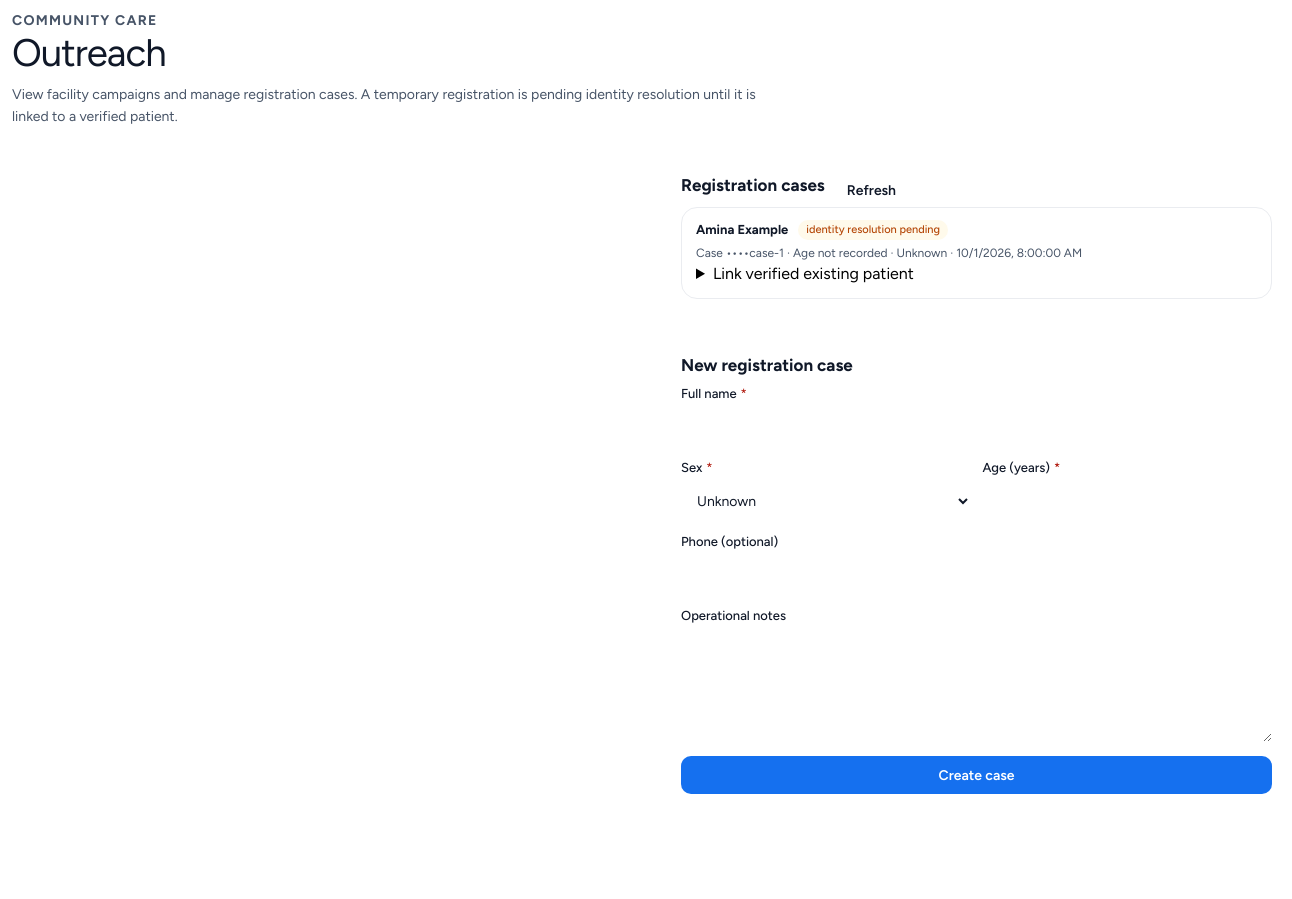
Test: outreach › linking a case: focus moves to the case once its form goes, and the case says it
Click the heading "Link verified existing patient". click: (813, 273)
box: [713,264,914,283]
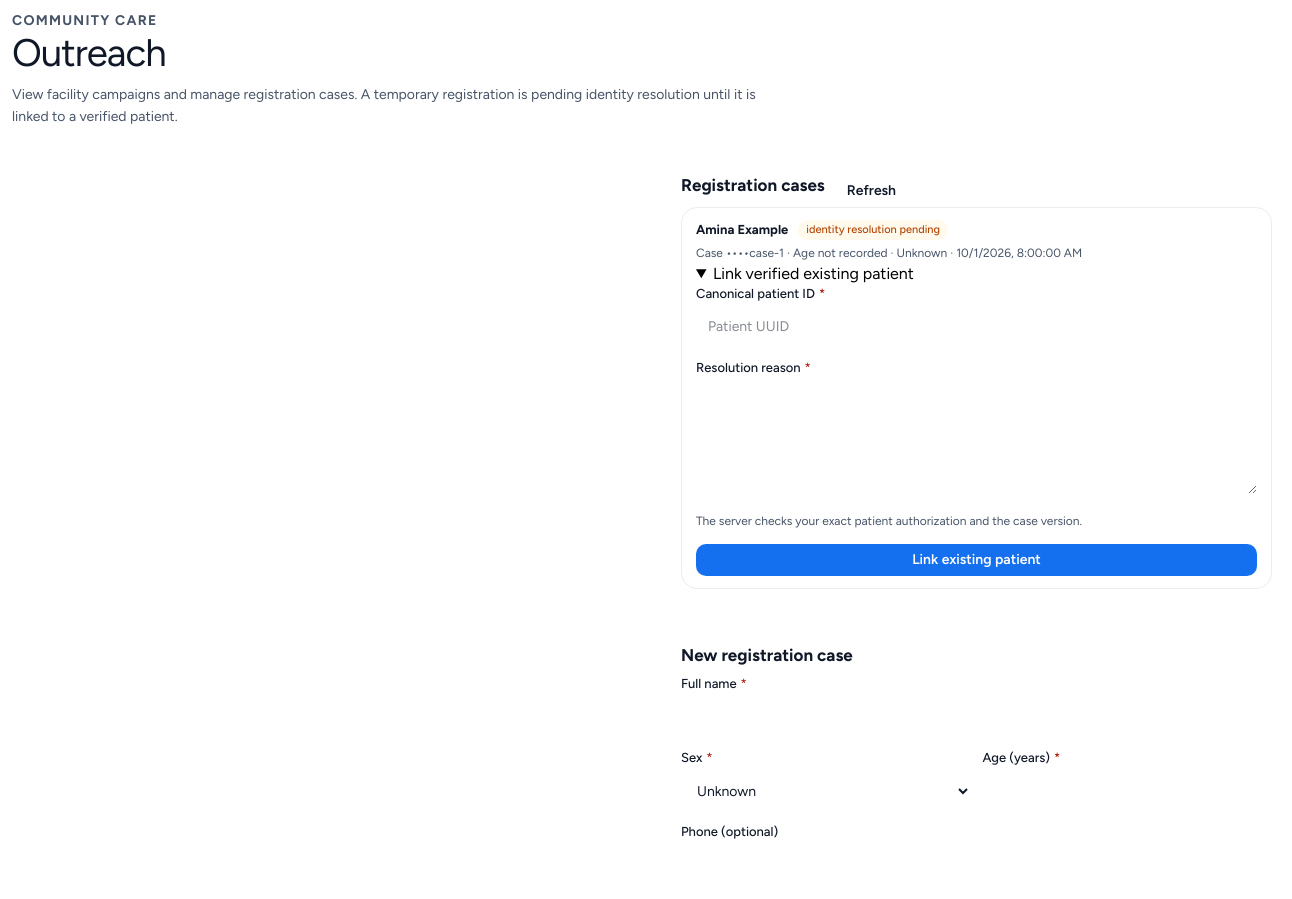
Type "a0000000-0000-4000-8000-000000000001" into the field labelled "Canonical patient ID*". click: (976, 327)
box: [696,308,1257,346]
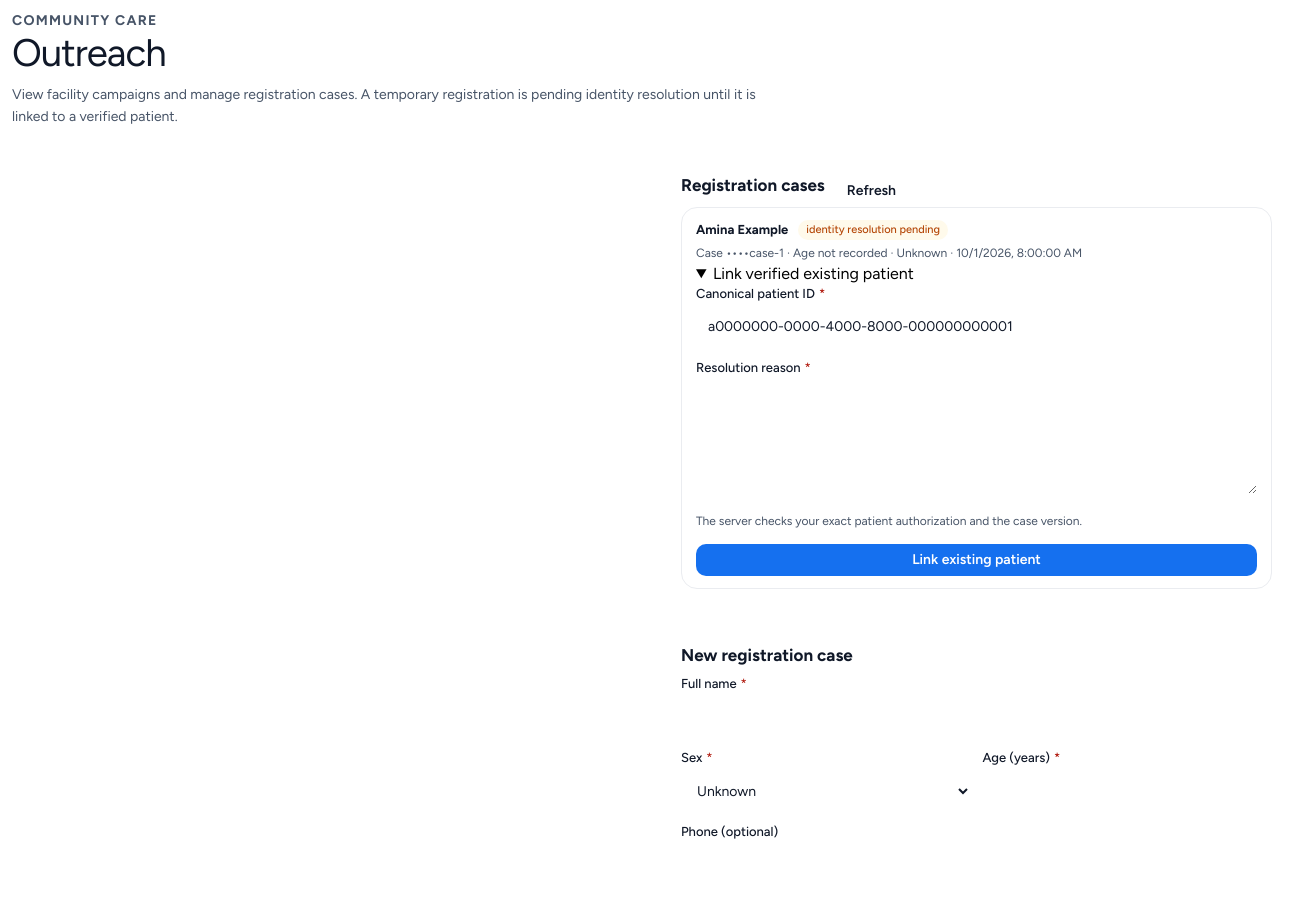
Type "Matched by phone and date of birth" into the text box labelled "Resolution reason*". click: (976, 438)
box: [696,382,1257,494]
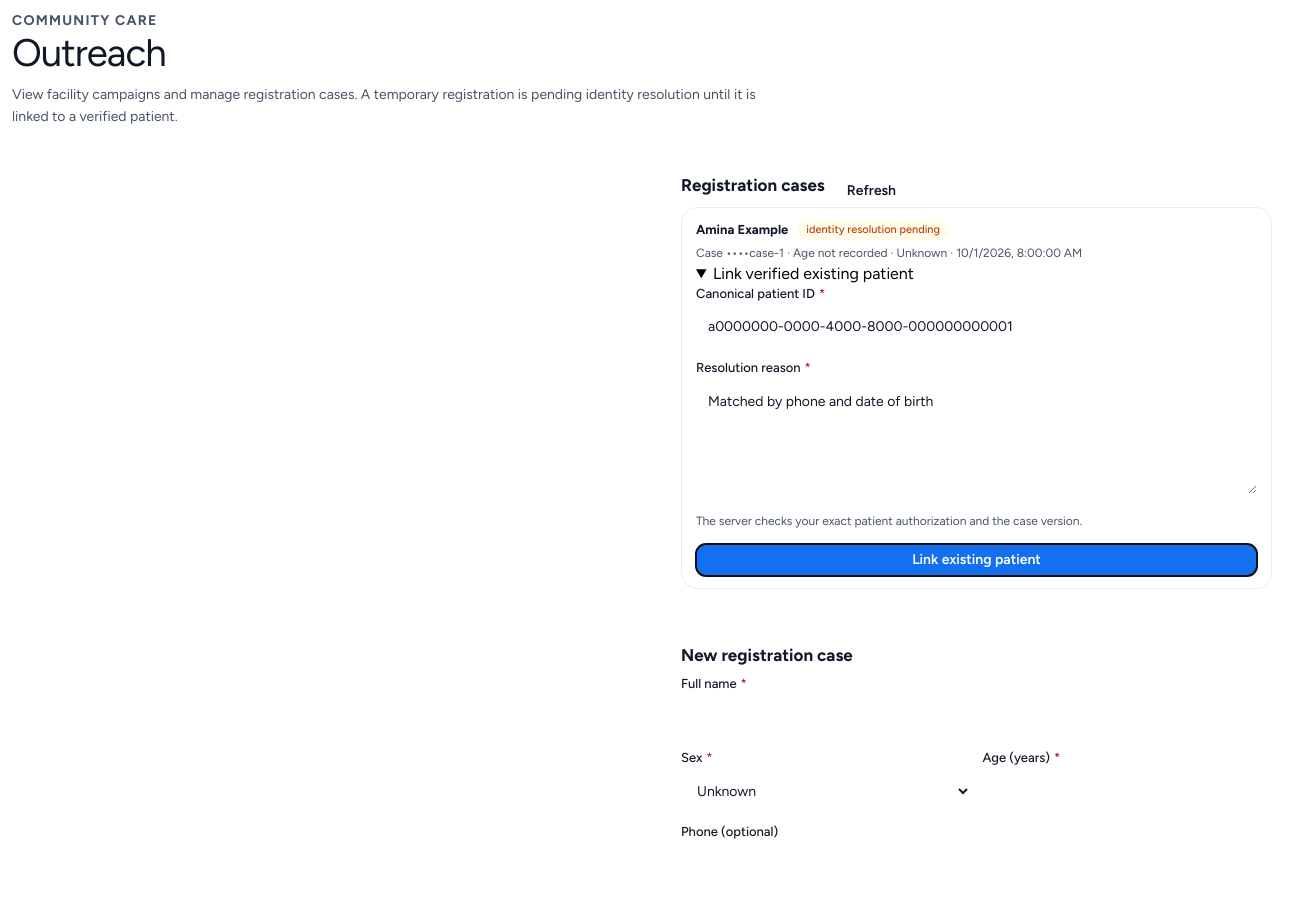
Click the button "Link existing patient". click: (976, 560)
box: [696,544,1257,576]
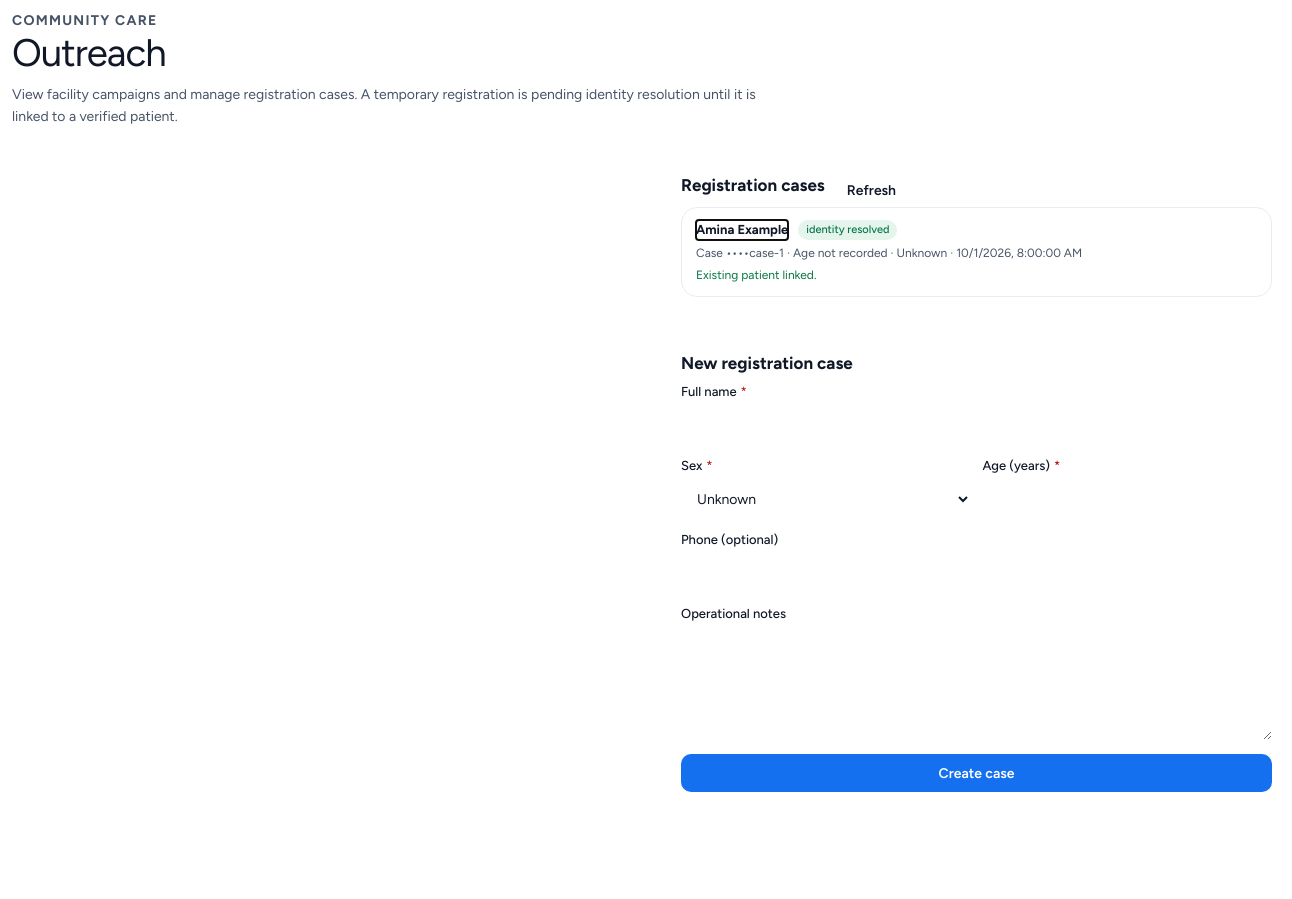
Expected: the button "Link existing patient" is gone
Expected: the message with id "outreach-case-status-case-1" reads "Existing patient linked.", [696,268,816,282]
